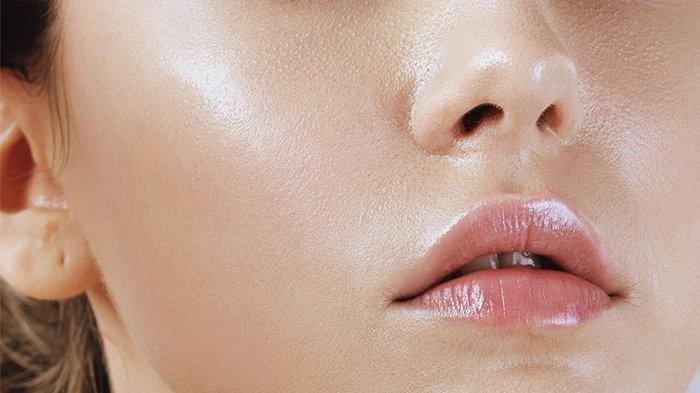Oily-Skin: (123, 24, 394, 335), (577, 10, 700, 210)
